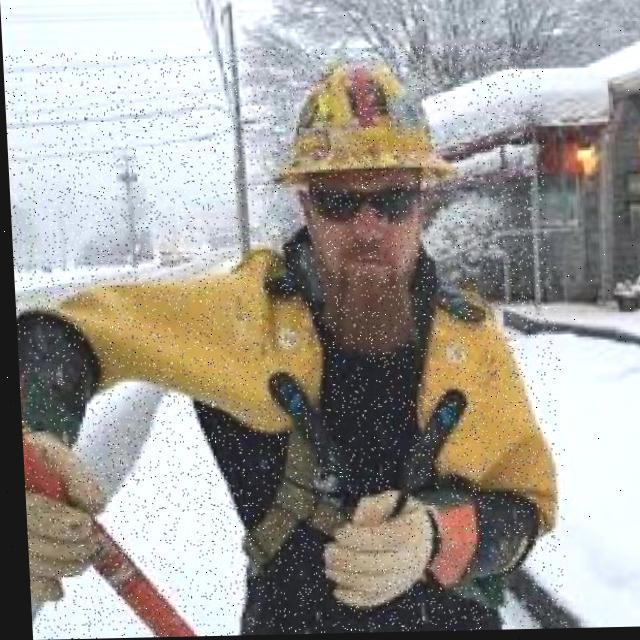Gloves: (312, 488, 438, 611)
Helmet: (268, 55, 457, 196)
